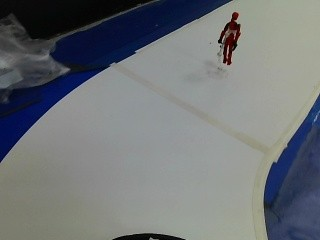pedestrian: (215, 11, 241, 65)
